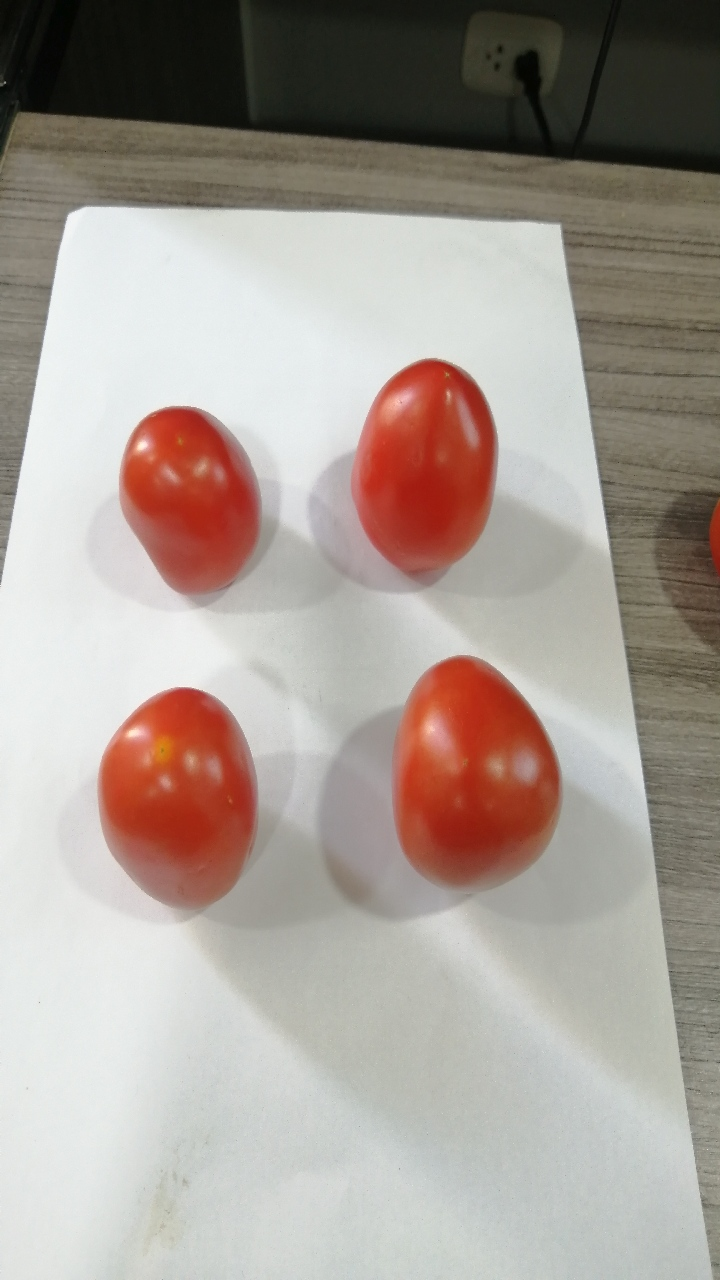tomateRojo: (364, 625, 575, 909), (68, 648, 272, 920), (308, 332, 512, 597), (80, 368, 280, 623)
